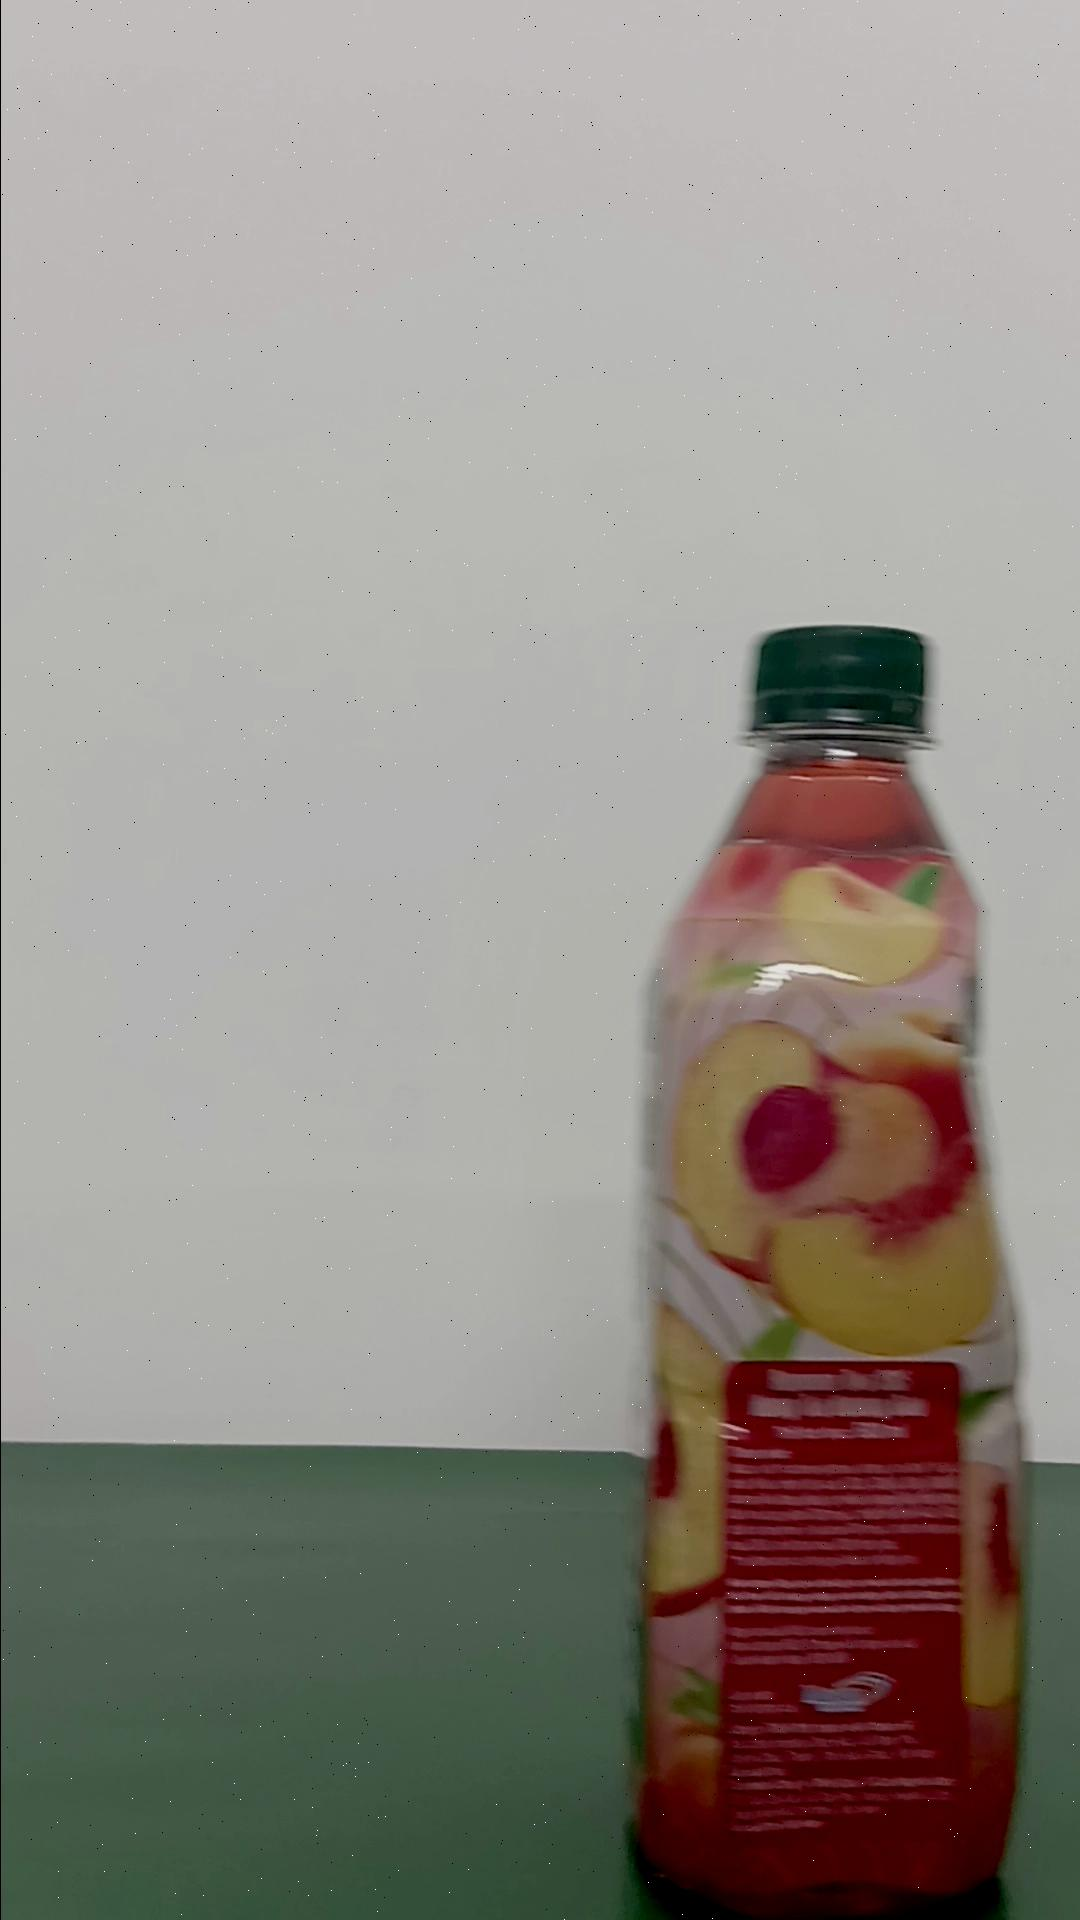loi meo sp: (630, 620, 1029, 1913)
